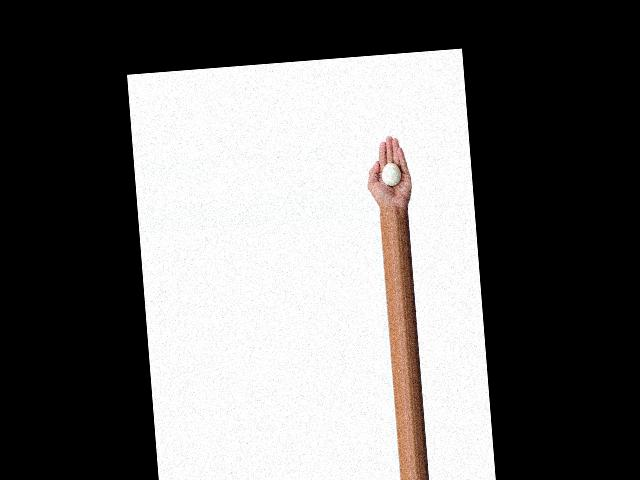egg: (381, 161, 401, 186)
